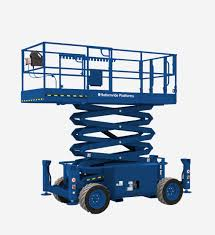Scissor Lift: (20, 41, 194, 214)
